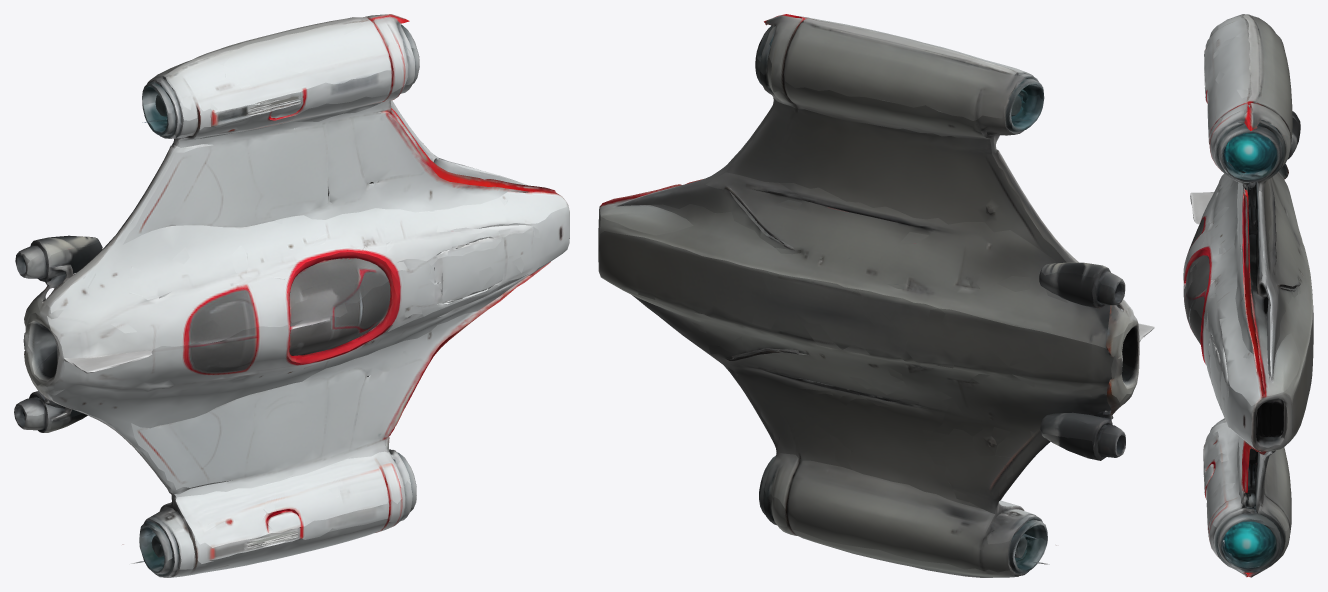
The model's file is corvette.glb.
The picture shows the model from 3 angles, left to right: view 1: azimuth 30°, elevation 25°; view 2: azimuth 150°, elevation 25°; view 3: azimuth 270°, elevation 25°; orthographic projection. The views are drawn at different scales.
Visible parts, largest first — view 1: f4_corvette.glb; view 2: f4_corvette.glb; view 3: f4_corvette.glb.
Boxes of the visible parts, x1,y1,x2,y2 form: f4_corvette.glb: [14, 14, 569, 577]; f4_corvette.glb: [598, 14, 1154, 577]; f4_corvette.glb: [1183, 14, 1313, 577].
Size of the model in its own units: 0.9997 by 0.93 by 0.2314.
Materials: 1 (1 with a texture image).
